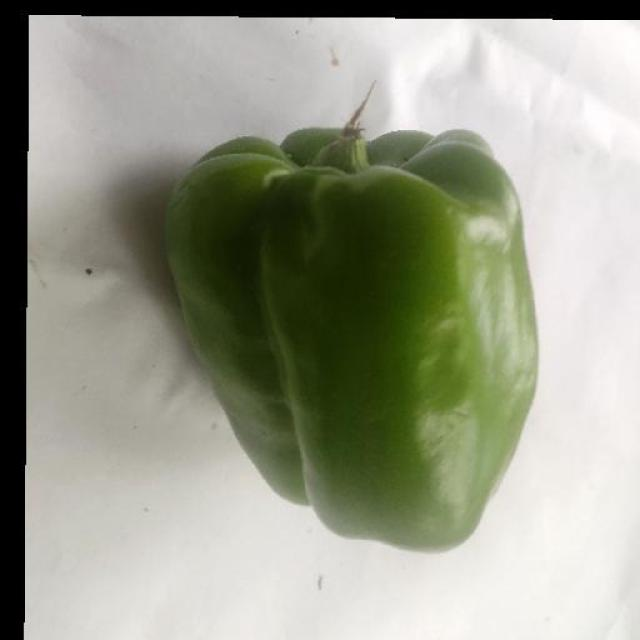Fresh_Capsicum: (222, 132, 566, 538)
